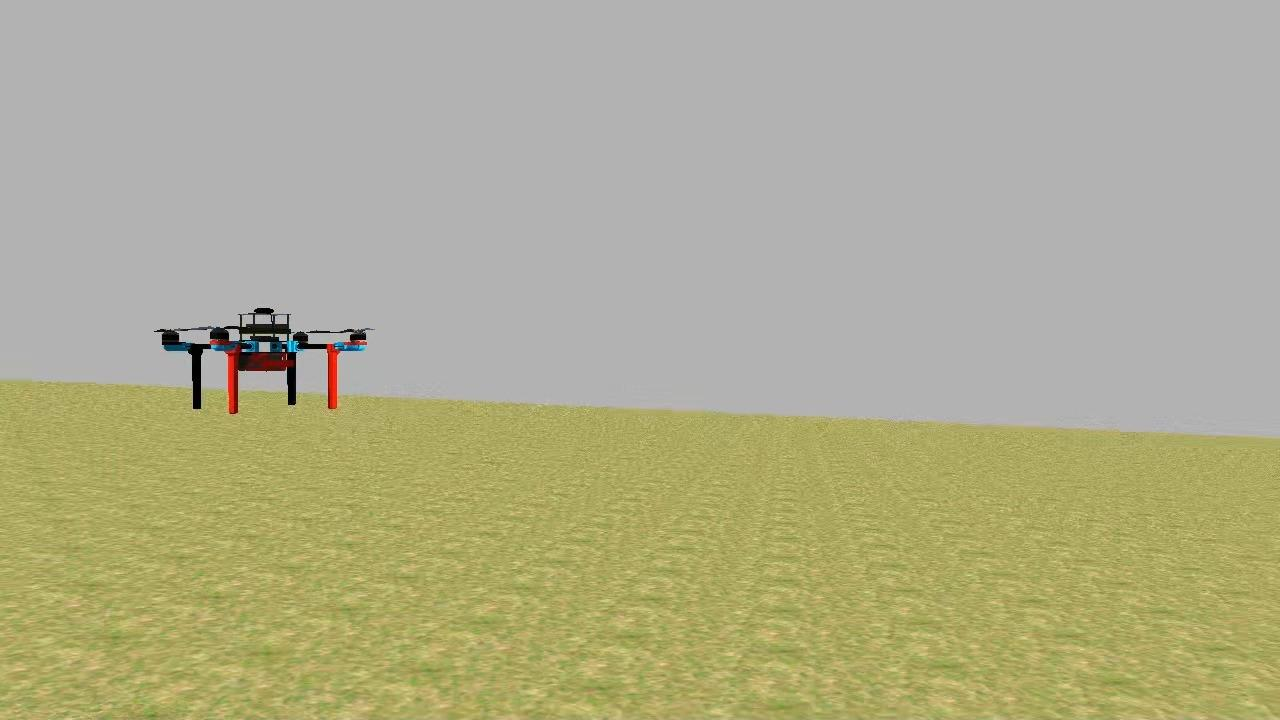UAV: (157, 290, 371, 431)
